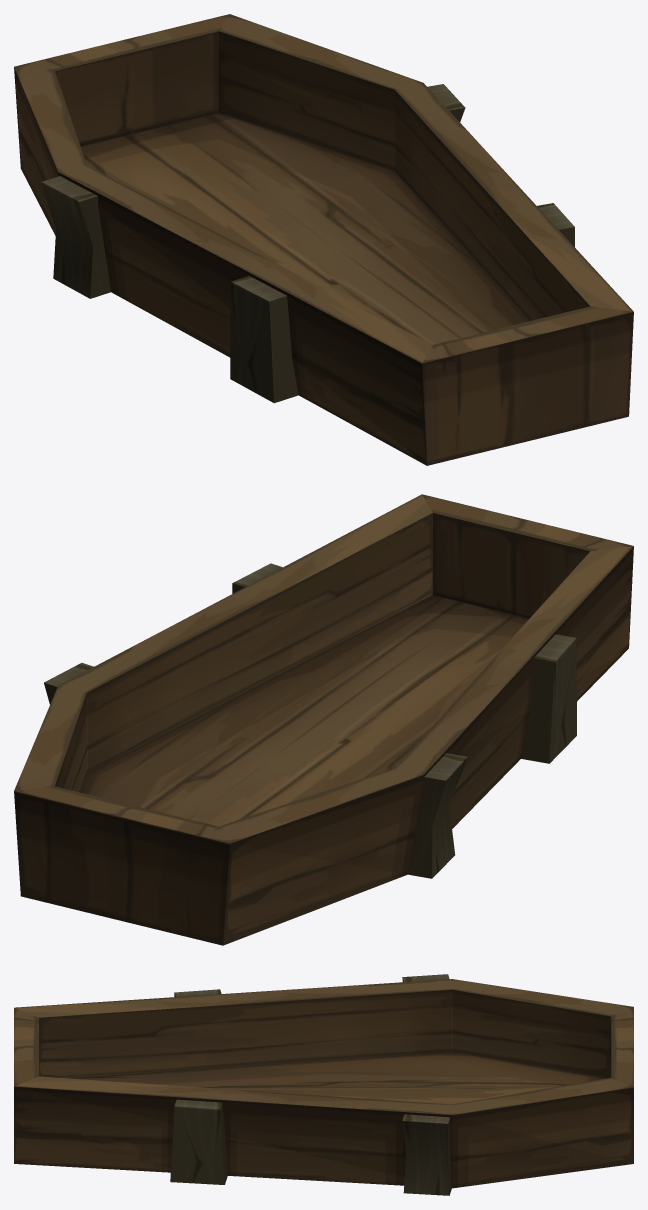
File: Dg_01_WoodCoffin_001.FBX
3 views of the same model, one above another, from view 1: azimuth 30°, elevation 25°; view 2: azimuth 150°, elevation 25°; view 3: azimuth 270°, elevation 25° (orthographic). The views are drawn at different scales.
Visible parts, largest first — view 1: Dg_01_WoodCoffin_001; view 2: Dg_01_WoodCoffin_001; view 3: Dg_01_WoodCoffin_001.
Part boxes in pixels (bbox=[...]): Dg_01_WoodCoffin_001: bbox=[14, 14, 633, 465]; Dg_01_WoodCoffin_001: bbox=[14, 494, 633, 945]; Dg_01_WoodCoffin_001: bbox=[14, 974, 633, 1195].
Size of the model in its own units: 1.76 by 0.4346 by 3.08.
